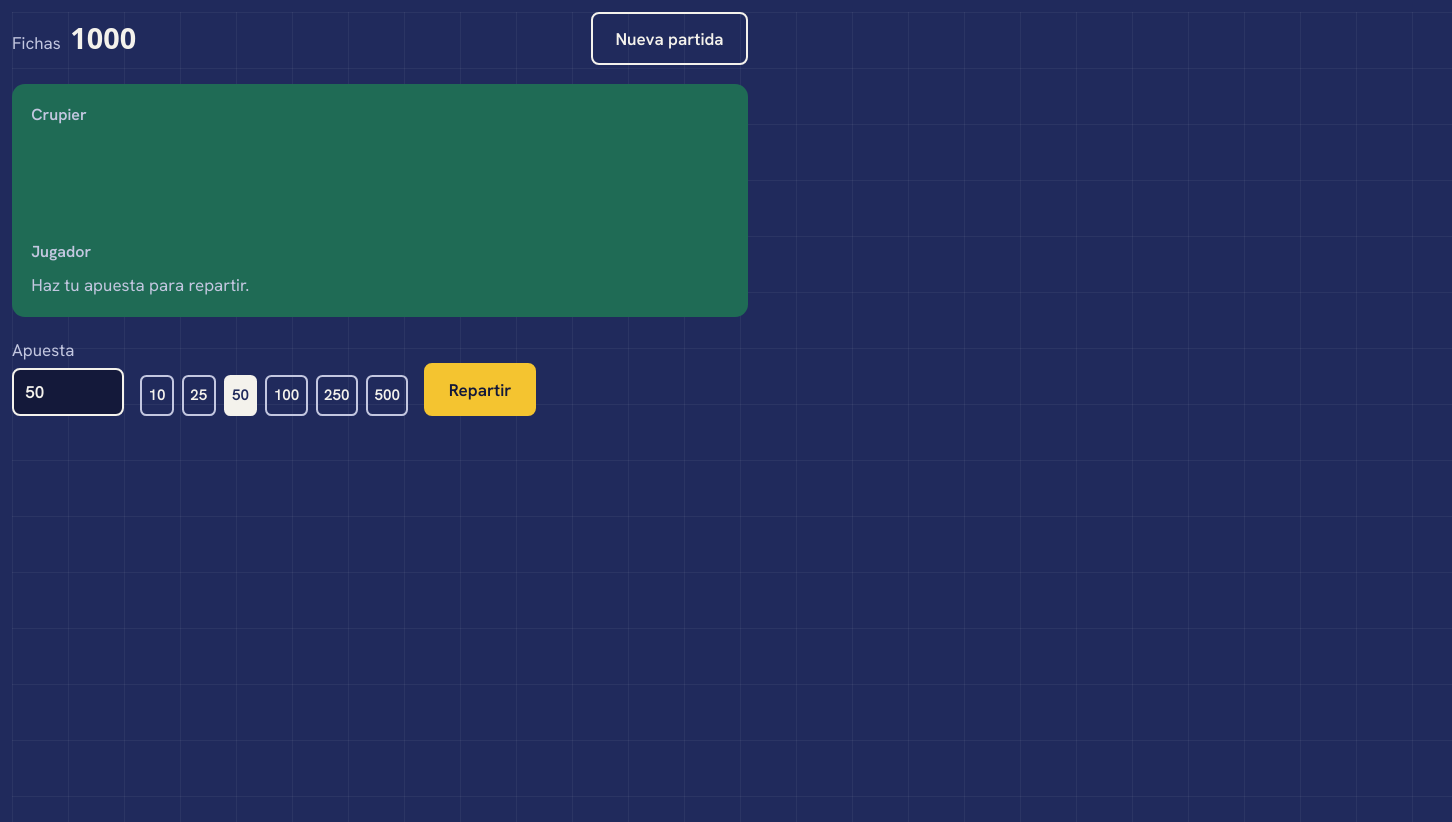
Scenario: con dos manos tras dividir solo resalta la activa
The image size is (1452, 822).
Click the button "Repartir". click: (480,390)
box: [424,363,536,416]
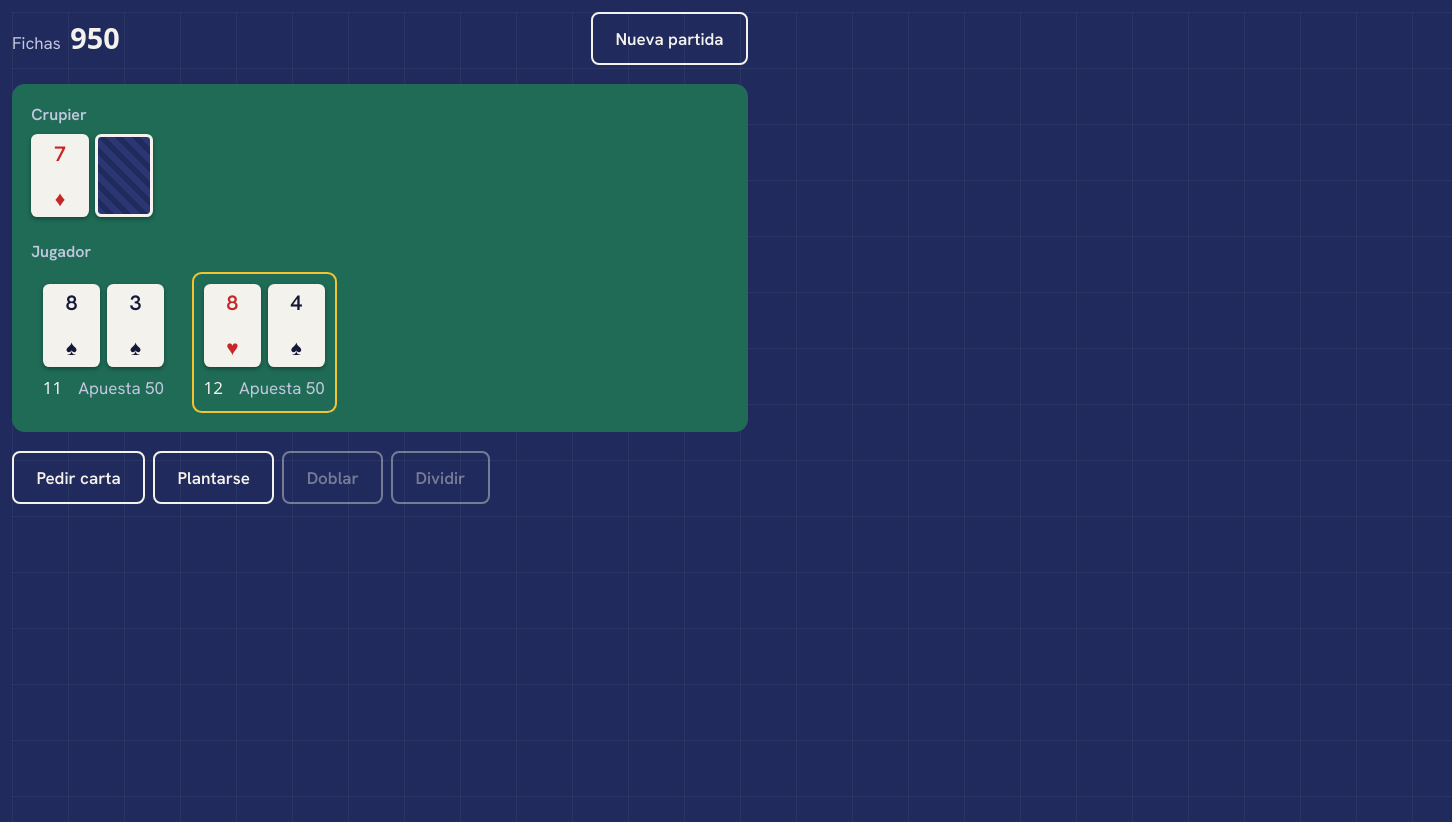
Check: the number of elements labelled "8 ♠ 3 ♠ 11 Apuesta 50" is 2, box [43,284,164,399]; [192,272,337,413]
